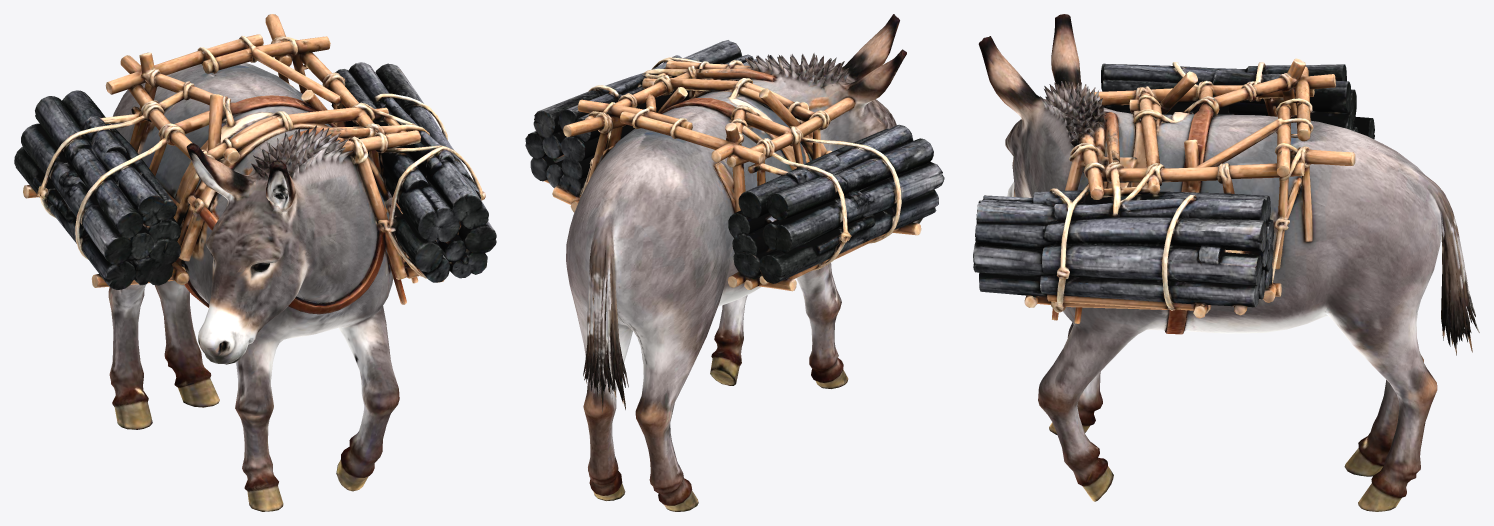
The model's file is qm_donkey.glb.
3 views of the same model, side by side, from view 1: azimuth 30°, elevation 25°; view 2: azimuth 150°, elevation 25°; view 3: azimuth 270°, elevation 25° (orthographic). The views are drawn at different scales.
Visible parts, largest first — view 1: qm_donkey; view 2: qm_donkey; view 3: qm_donkey.
Boxes of the visible parts, x1,y1,x2,y2 form: qm_donkey: (14, 14, 496, 511); qm_donkey: (525, 14, 944, 511); qm_donkey: (973, 14, 1479, 511).
Size of the model in its own units: 1.57 by 1.6 by 1.78.
Materials: 1 (1 with a texture image).
